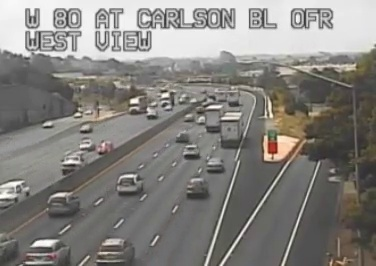car: (24, 239, 70, 265), (96, 238, 135, 266), (47, 192, 78, 215), (116, 173, 141, 193), (186, 178, 206, 195), (206, 158, 223, 173), (182, 144, 199, 157)
truck: (220, 111, 242, 146), (204, 104, 224, 132)
